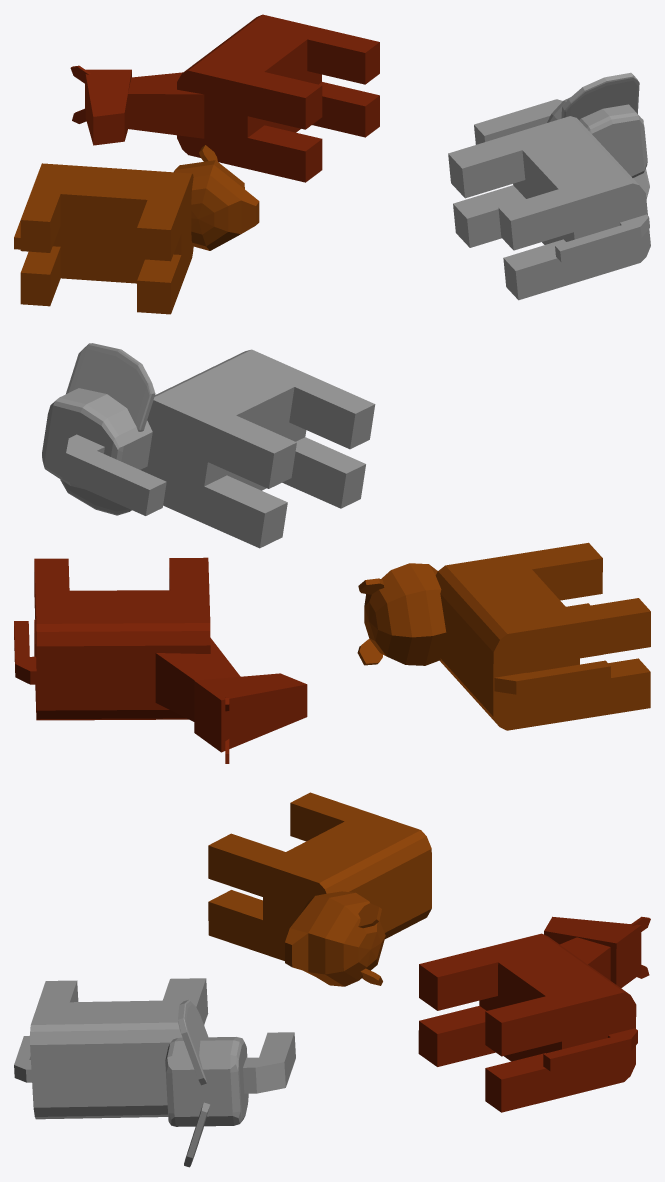
Rendered from carved_animals.fbx.
3 renders of one model, top to bottom at view 1: azimuth 30°, elevation 25°; view 2: azimuth 150°, elevation 25°; view 3: azimuth 270°, elevation 25°, orthographic. The views are drawn at different scales.
Visible parts, largest first — view 1: Cube, Cube.001, Sphere; view 2: Cube, Sphere, Cube.001; view 3: Cube.001, Sphere, Cube.
Part boxes in pixels (x1,y1,x2,y2): Cube: (448,72,650,300); Cube.001: (70,14,379,182); Sphere: (14,145,259,314); Cube: (42,343,375,548); Sphere: (357,542,650,730); Cube.001: (14,557,307,763); Cube.001: (418,916,650,1112); Sphere: (208,792,431,986); Cube: (14,978,295,1167).
Bounding box in the file's own units: 1417 × 337 × 1286.
